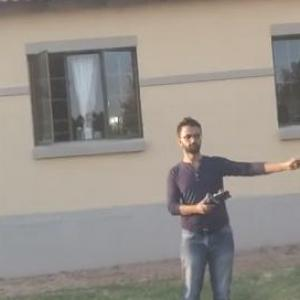follow: (160, 104, 300, 299)
